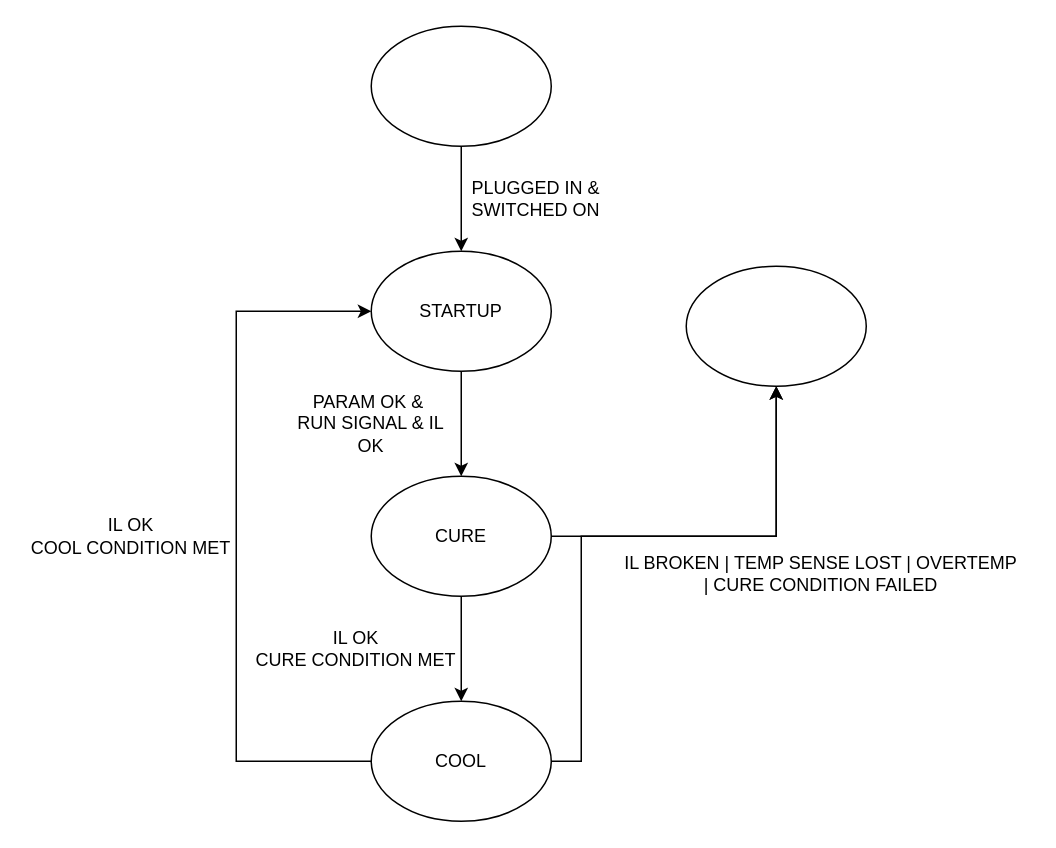
Image size: 1056x848. Some labels were removed from this diagram. Each missing label, with the centre of its shape:
"ERROR" goes at [775,325].
"OFF" goes at [460,85].
